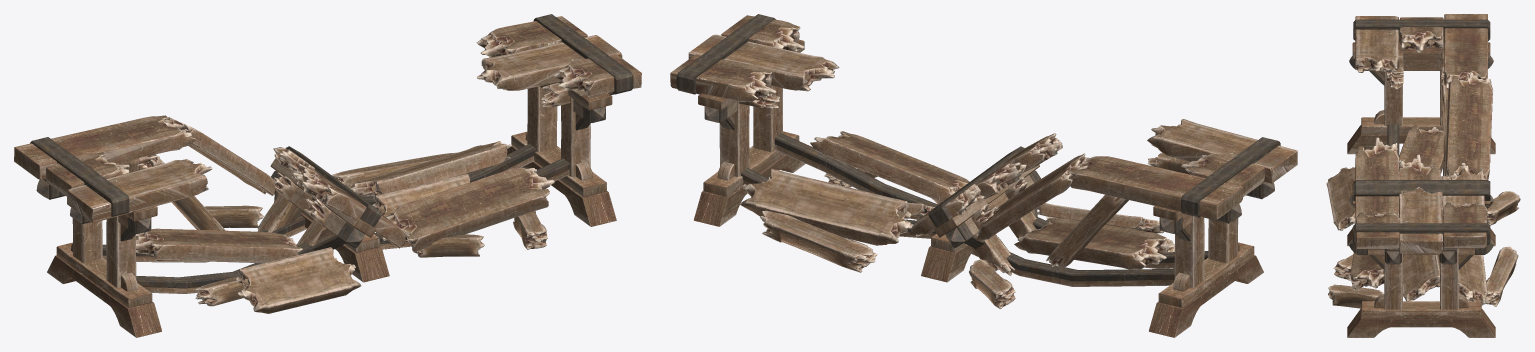
The picture shows the model from 3 angles, left to right: view 1: azimuth 30°, elevation 25°; view 2: azimuth 150°, elevation 25°; view 3: azimuth 270°, elevation 25°; orthographic projection. The views are drawn at different scales.
Visible parts, largest first — view 1: SM_DR_Table_B_03_01_LOD0; view 2: SM_DR_Table_B_03_01_LOD0; view 3: SM_DR_Table_B_03_01_LOD0.
Part boxes in pixels (left/top/right/bottom): SM_DR_Table_B_03_01_LOD0: left=14, top=14, right=641, bottom=337; SM_DR_Table_B_03_01_LOD0: left=670, top=14, right=1297, bottom=337; SM_DR_Table_B_03_01_LOD0: left=1326, top=14, right=1520, bottom=337.
Size of the model in its own units: 4.68 by 1.15 by 1.7.
3 materials, 3 textured.
